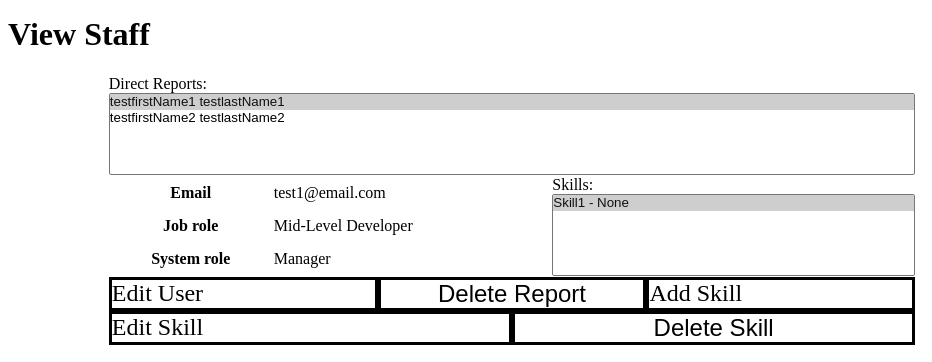
Test: ViewStaff › renders user info and links correctly on Direct Reports listbox option selection
The width and height of the screenshot is (932, 362).
Check: the heading "View Staff" is shown, box [8, 16, 150, 52]
Check: the table is shown, box [109, 176, 552, 277]
Select "testfirstName2 testlastName2" in the dropdown named "Direct Reports" at (512, 134), box [109, 93, 915, 175]
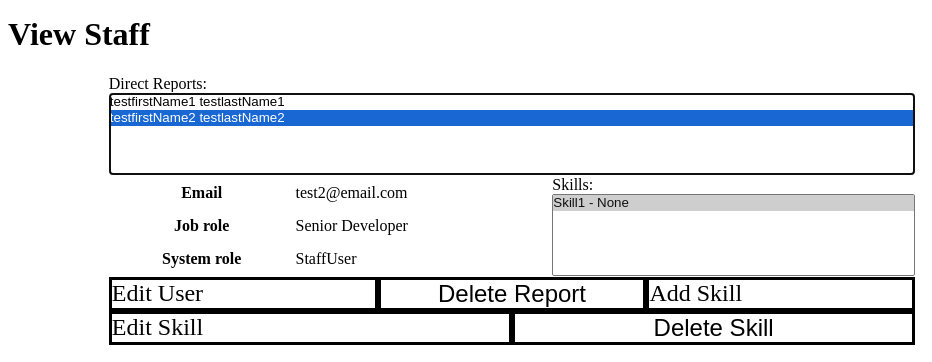
Check: the cell "test1@email.com" is gone
Check: the cell "test2@email.com" is shown, box [294, 178, 550, 209]
Check: the cell "Mid-Level Developer" is gone
